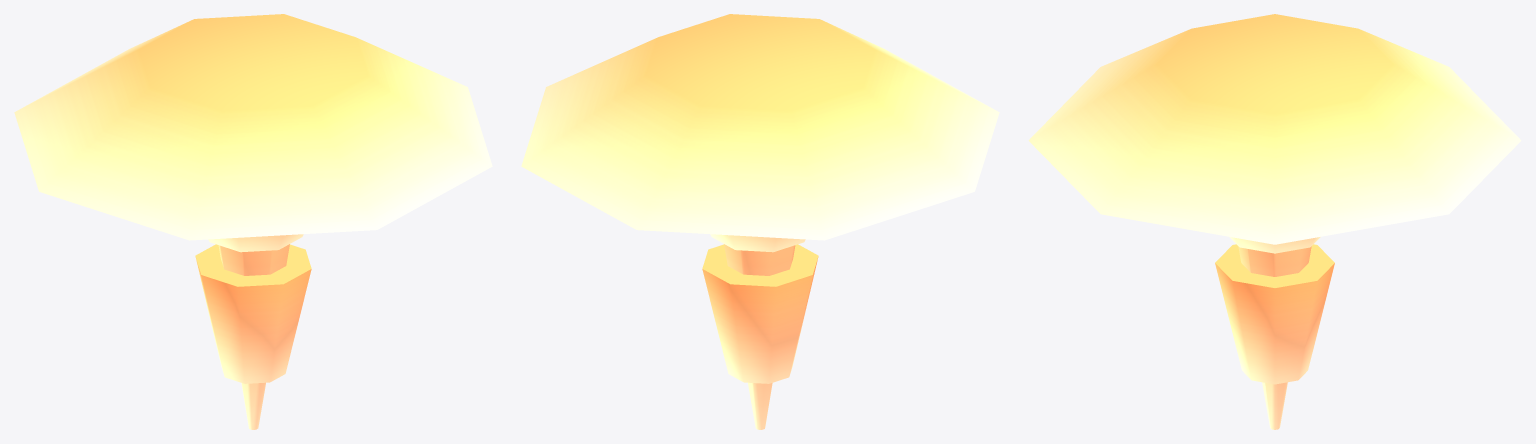
The model's file is wood_pommel_169_004.glb.
3 views of the same model, side by side, from view 1: azimuth 30°, elevation 25°; view 2: azimuth 150°, elevation 25°; view 3: azimuth 270°, elevation 25° (orthographic).
Parts seen in each view (by area): view 1: wood_pommel_169.004; view 2: wood_pommel_169.004; view 3: wood_pommel_169.004.
Boxes of the visible parts, bbox=[...] form: wood_pommel_169.004: bbox=[14, 14, 492, 429]; wood_pommel_169.004: bbox=[521, 14, 999, 429]; wood_pommel_169.004: bbox=[1028, 14, 1521, 429].
Bounding box in the file's own units: 2.24 × 1.83 × 2.24.
1 material, 1 textured.
